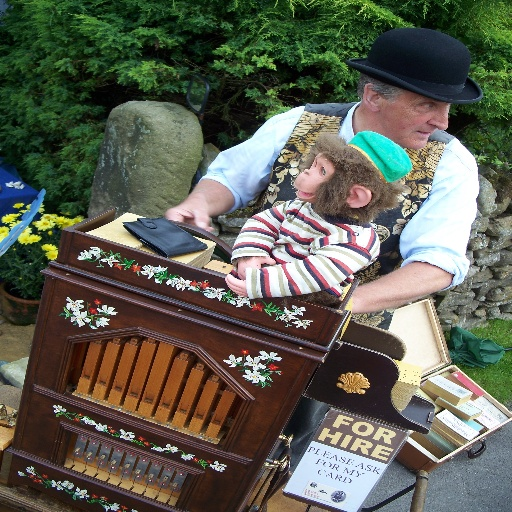hand: (156, 181, 238, 239)
